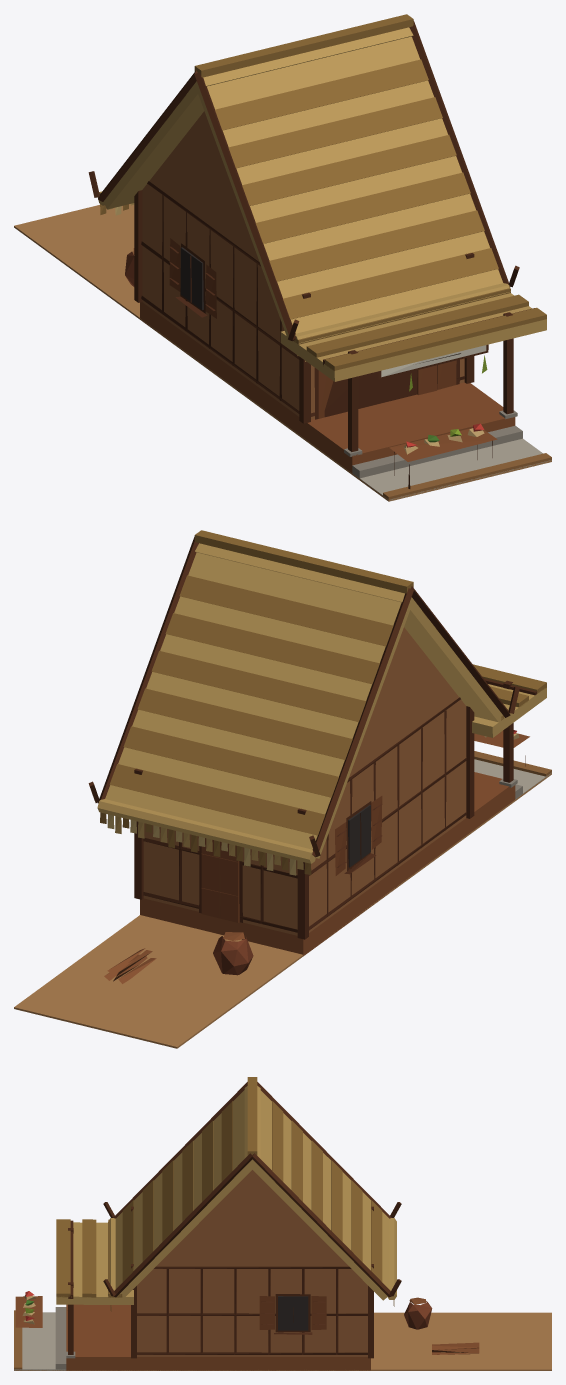
Rendered from bay1_one.glb.
3 renders of one model, top to bottom at view 1: azimuth 30°, elevation 25°; view 2: azimuth 150°, elevation 25°; view 3: azimuth 270°, elevation 25°, orthographic. The views are drawn at different scales.
Parts seen in each view (by area): view 1: body, windows; view 2: body, windows; view 3: body, windows.
Boxes of the visible parts, <box> form: body: <box>14,14,551,501</box>; windows: <box>180,247,203,309</box>; body: <box>14,530,551,1048</box>; windows: <box>348,805,370,867</box>; body: <box>14,1077,551,1370</box>; windows: <box>278,1296,308,1330</box>.
Size of the model in its own units: 5.54 by 7.44 by 15.9.
